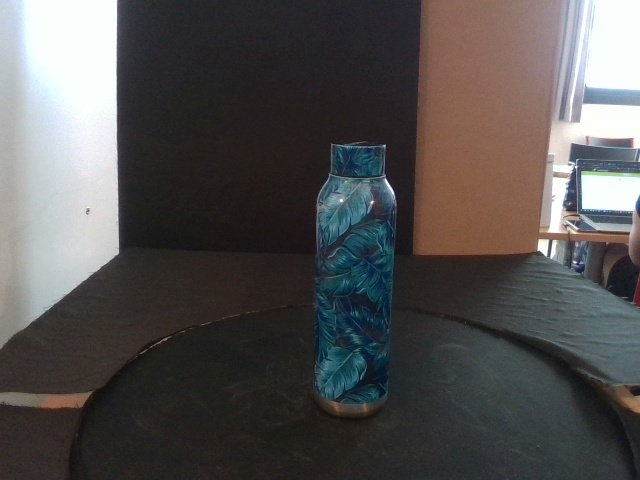bottle: (314, 140, 398, 416)
